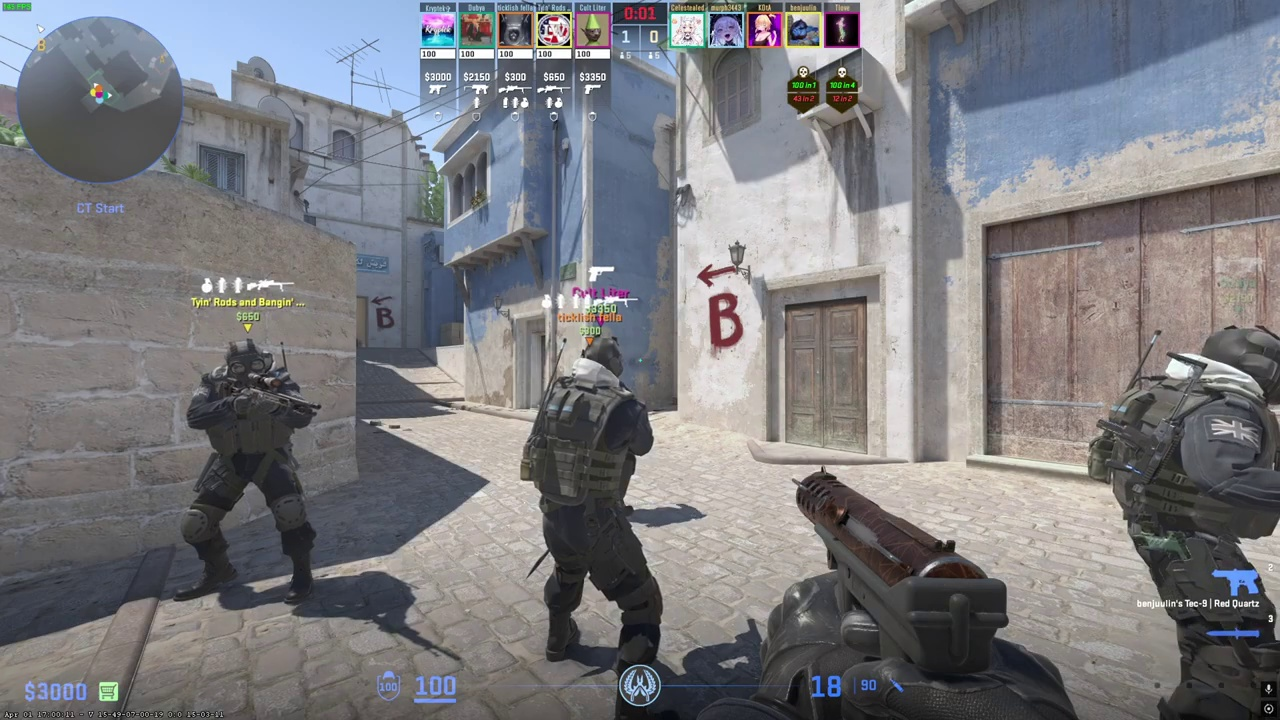CT: (1106, 322, 1280, 720), (529, 335, 662, 677), (174, 339, 317, 605)
